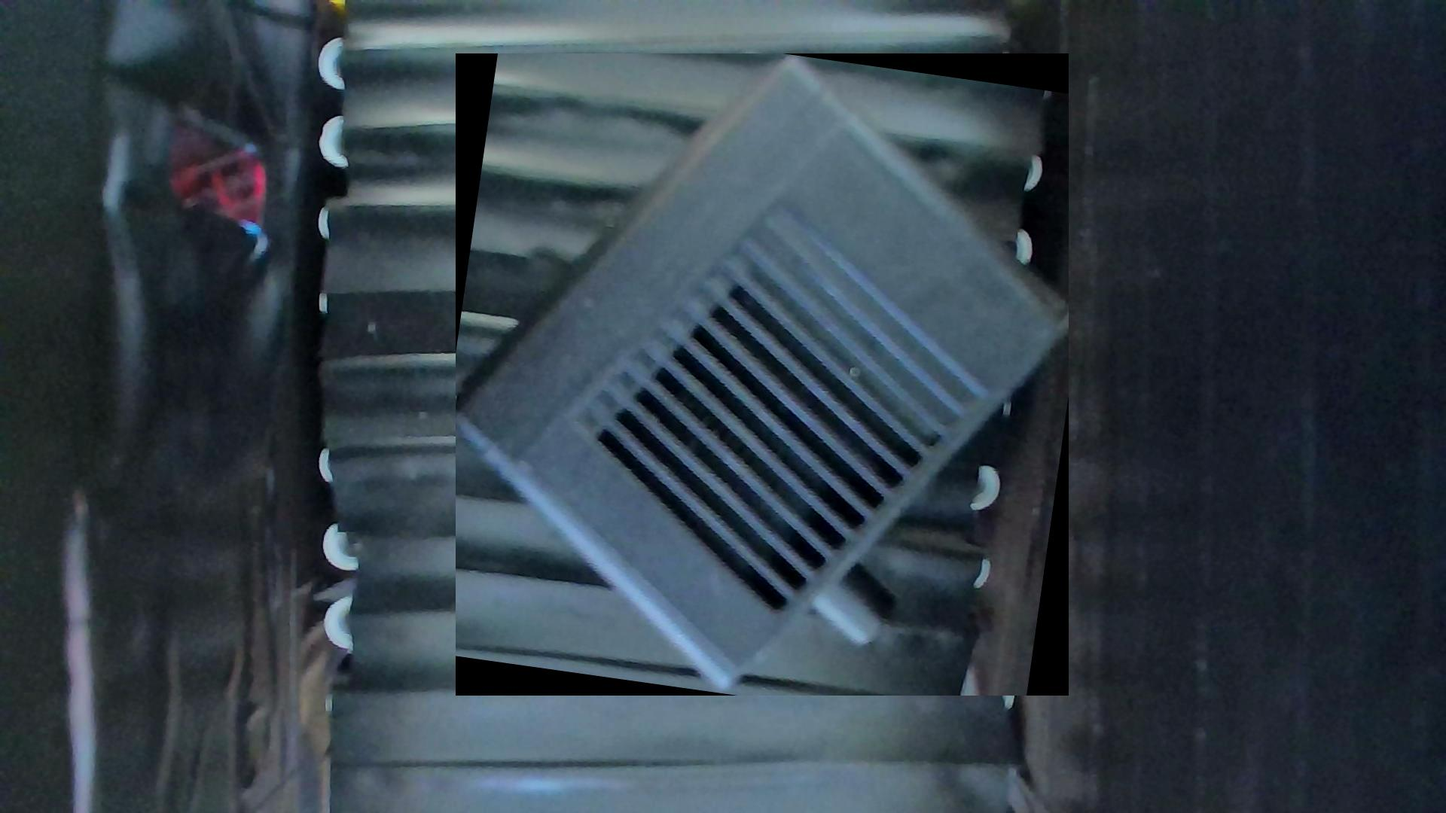motor: (456, 54, 1069, 696)
